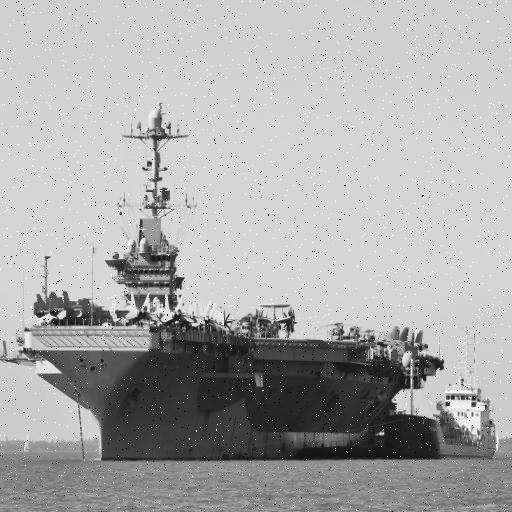Portanaves: (1, 105, 449, 471)
